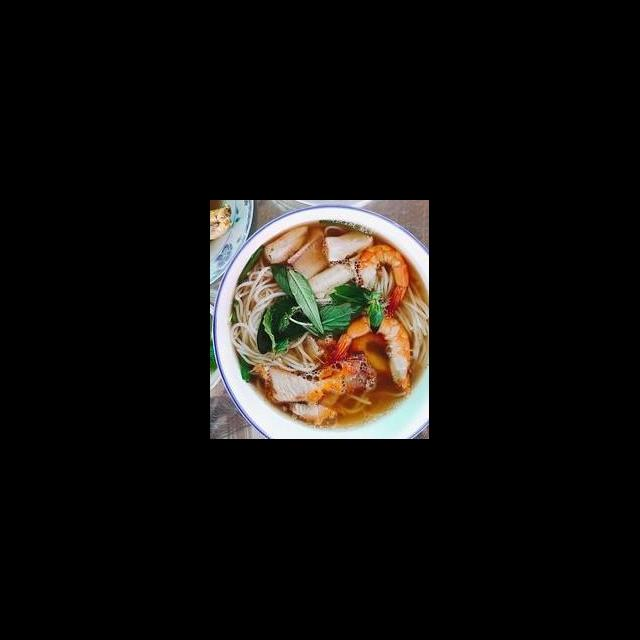bun: (226, 254, 326, 378), (392, 280, 430, 372)
ca: (282, 224, 334, 284), (258, 222, 314, 266), (304, 258, 362, 300), (321, 227, 378, 266)
rau ram: (282, 266, 330, 338)
thit heo quay: (258, 364, 332, 406), (280, 390, 340, 428)
tom: (331, 306, 416, 398), (356, 240, 412, 320)
